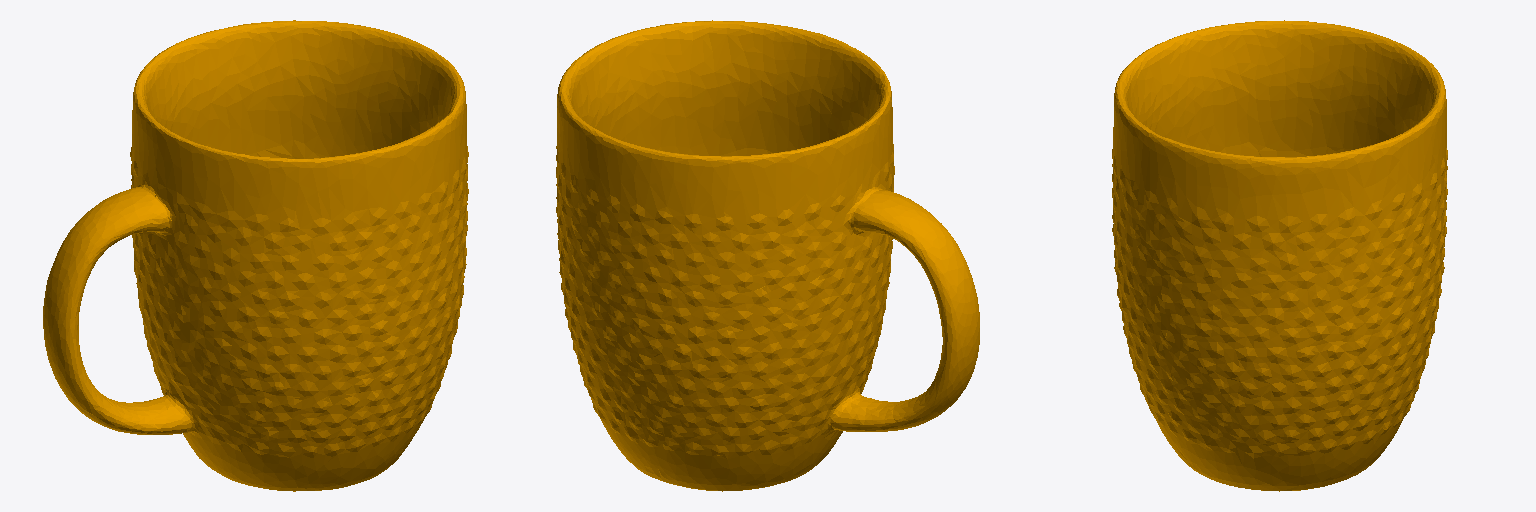
The robot description file, URDF, robot "porcelain_mug":
<?xml version="1.0"?>
<!-- GENERATED by tasks/libero/build_env/build_object_urdf.py. Do not hand edit.

     LIBERO object `porcelain_mug`, spawnable by the TRO-MP env.
     Role: graspable target object (envs/), one of the 22 LIBERO target assets.

     WHY a URDF when envs/porcelain_mug/ may also hold a USD: this env spawns objects
     only through `assets.object_urdf` (scene_utils.py:1929, which calls
     _convert_urdf_to_usd at :1964). The assets dataclass declares no USD field,
     so a ready-made USD cannot be handed to this code path.

     Mesh coordinates are PRESERVED, not re-centred: 11 of 22 LIBERO envs have
     their mesh origin at the object's base, and `goal_traj` tracks that origin.
     Re-centring would offset the object from its own trajectory every frame.

     Mass: density 800.0 kg/m^3 x mesh volume 1.798227e-04 m^3
     Inertia: solid-box approximation about the COM at that mass, NOT the true
     mesh inertia tensor. Adequate for a graspable tabletop object; revisit if
     spin dynamics matter.

     Collision: the full mesh, decomposed by Isaac's URDF importer. The convex
     decomposition authored in the DexVerse USD is NOT reproduced here.
-->
<robot name="porcelain_mug">
  <link name="porcelain_mug">
    <inertial>
      <origin xyz="0.012695 -0.001741 0.056337" rpy="0 0 0"/>
      <mass value="0.143858"/>
      <inertia ixx="2.691965e-04" ixy="0" ixz="0" iyy="3.624220e-04" iyz="0" izz="3.166012e-04"/>
    </inertial>
    <visual>
      <origin xyz="0 0 0" rpy="0 0 0"/>
      <geometry><mesh filename="porcelain_mug.obj" scale="1 1 1"/></geometry>
    </visual>
    <collision>
      <origin xyz="0 0 0" rpy="0 0 0"/>
      <geometry><mesh filename="porcelain_mug.obj" scale="1 1 1"/></geometry>
    </collision>
  </link>
</robot>

--- What the picture shows (computed from the rendered views, not written in the file) ---
The picture shows the robot from 3 angles, left to right: view 1: azimuth 30°, elevation 25°; view 2: azimuth 150°, elevation 25°; view 3: azimuth 270°, elevation 25°; orthographic projection.
Robot: porcelain_mug — 1 links, 0 joints (none); root link porcelain_mug; default pose: all joints at 0.
Links seen in each view (by area): view 1: porcelain_mug; view 2: porcelain_mug; view 3: porcelain_mug.
Link boxes in pixels (bbox=[...]): porcelain_mug: bbox=[43, 20, 468, 491]; porcelain_mug: bbox=[556, 20, 979, 491]; porcelain_mug: bbox=[1112, 20, 1447, 491].
Bounding box of the posed robot: 0.1307 × 0.0965 × 0.1146 m (x, y, z).
1 mesh visuals loaded from 1 distinct referenced files (1 OBJ).
